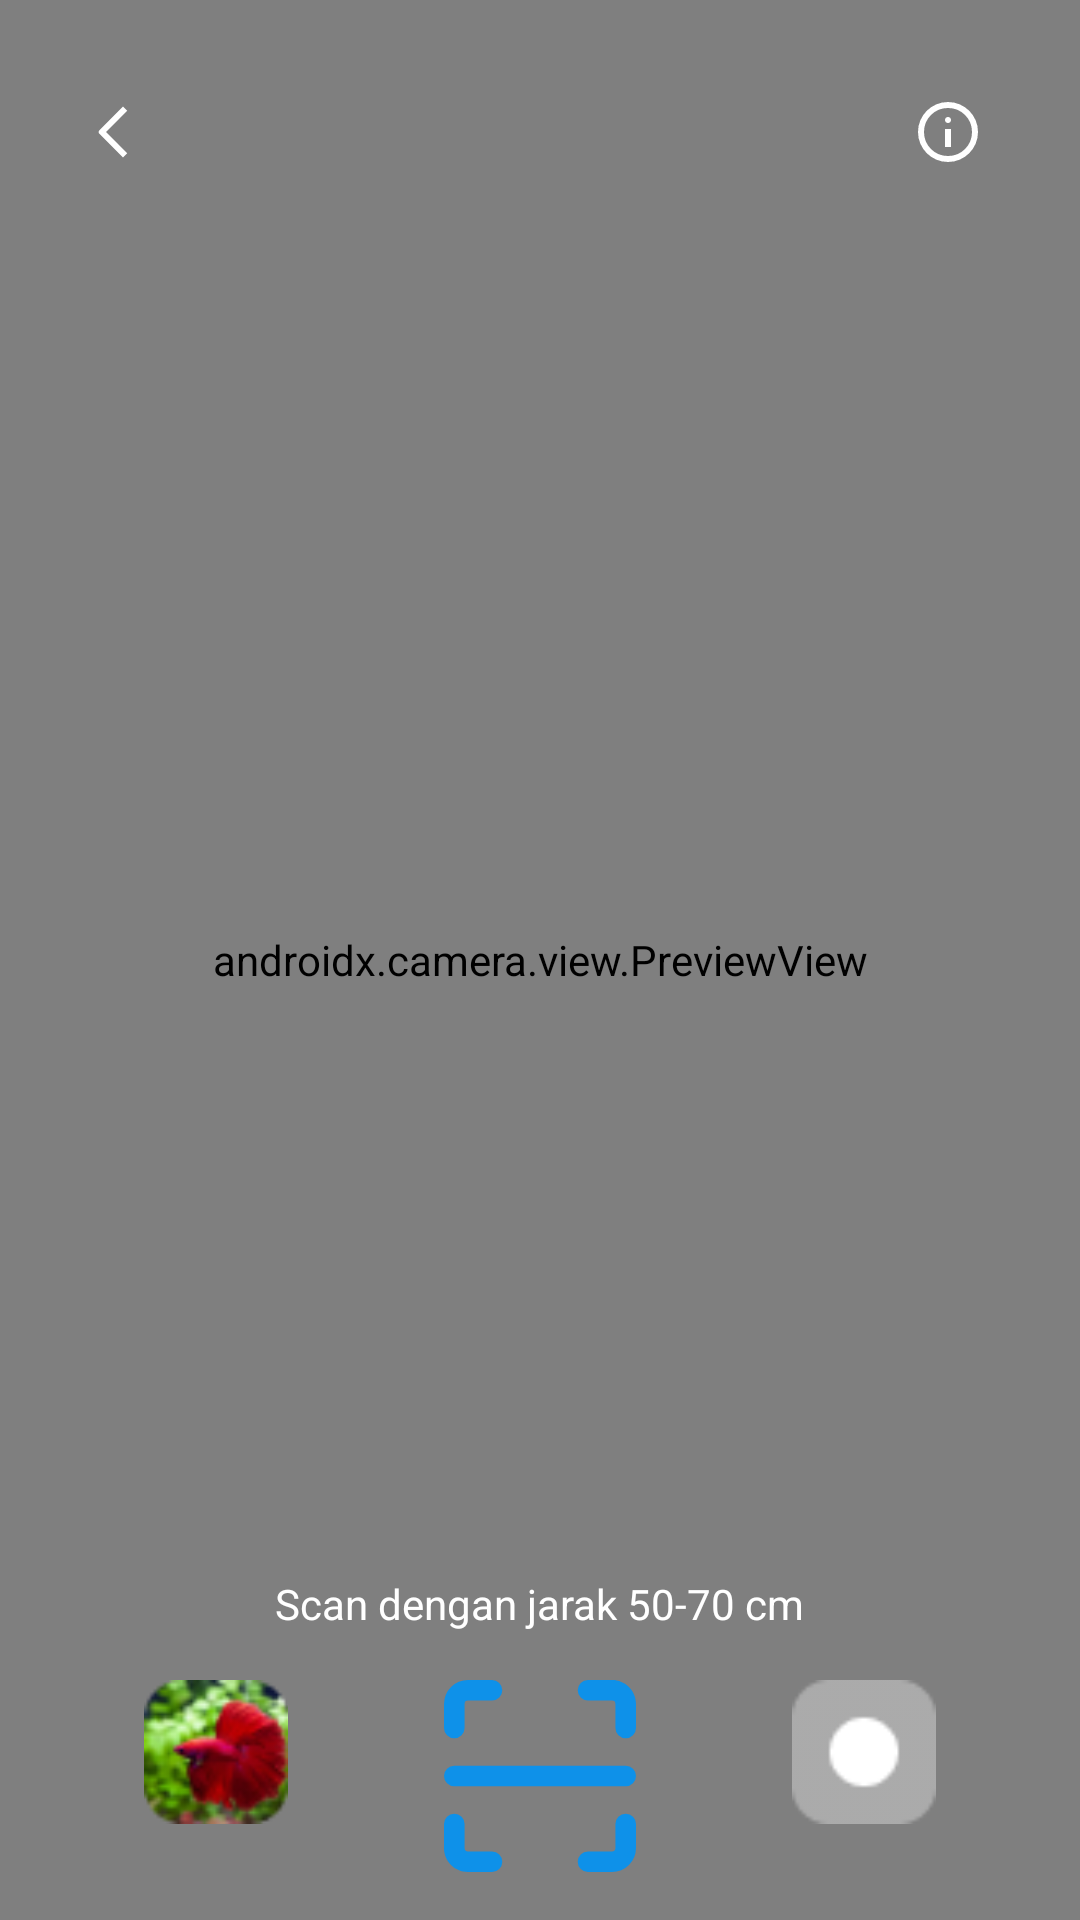

Screen size 1080 x 1920. Icon name, then its box in pixels as (x1, y1, x2, y2):
back: (98, 107, 127, 157)
galeri: (144, 1680, 288, 1824)
info: (918, 102, 978, 162)
scanner: (444, 1680, 636, 1872)
